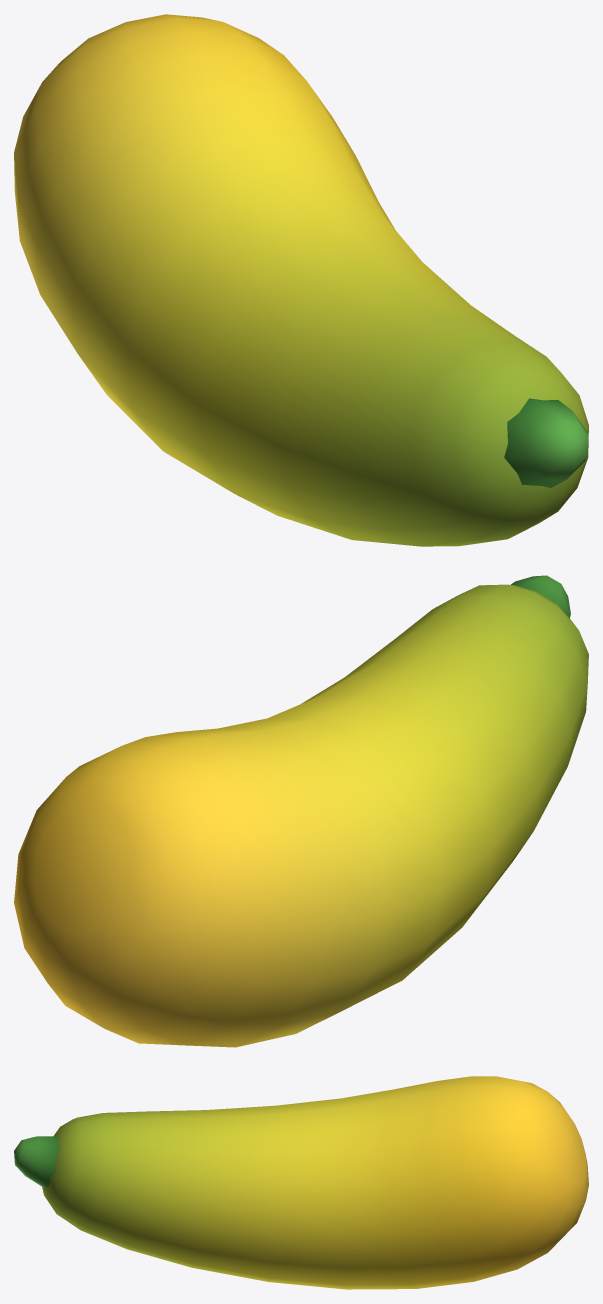
The model's file is eggplant_002.fbx.
The picture shows the model from 3 angles, top to bottom: view 1: azimuth 30°, elevation 25°; view 2: azimuth 150°, elevation 25°; view 3: azimuth 270°, elevation 25°; orthographic projection. The views are drawn at different scales.
Parts seen in each view (by area): view 1: eggplant_002; view 2: eggplant_002; view 3: eggplant_002.
Part boxes in pixels (bbox=[...]): eggplant_002: bbox=[14, 14, 588, 546]; eggplant_002: bbox=[14, 575, 588, 1047]; eggplant_002: bbox=[14, 1076, 588, 1289].
Size of the model in its own units: 9.23 by 24.65 by 9.66.
